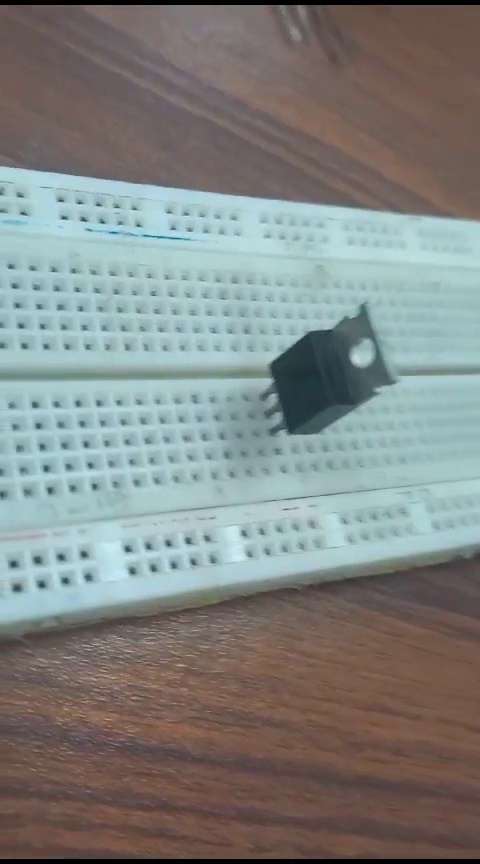voltage regulator: (256, 303, 400, 459)
